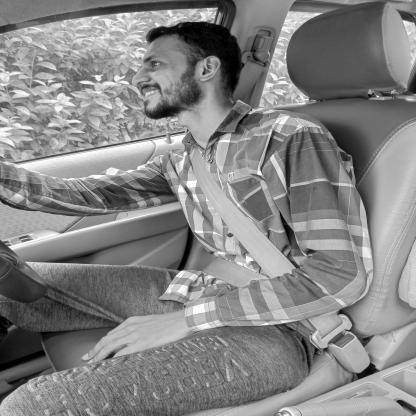seatbelt: (122, 15, 296, 243)
